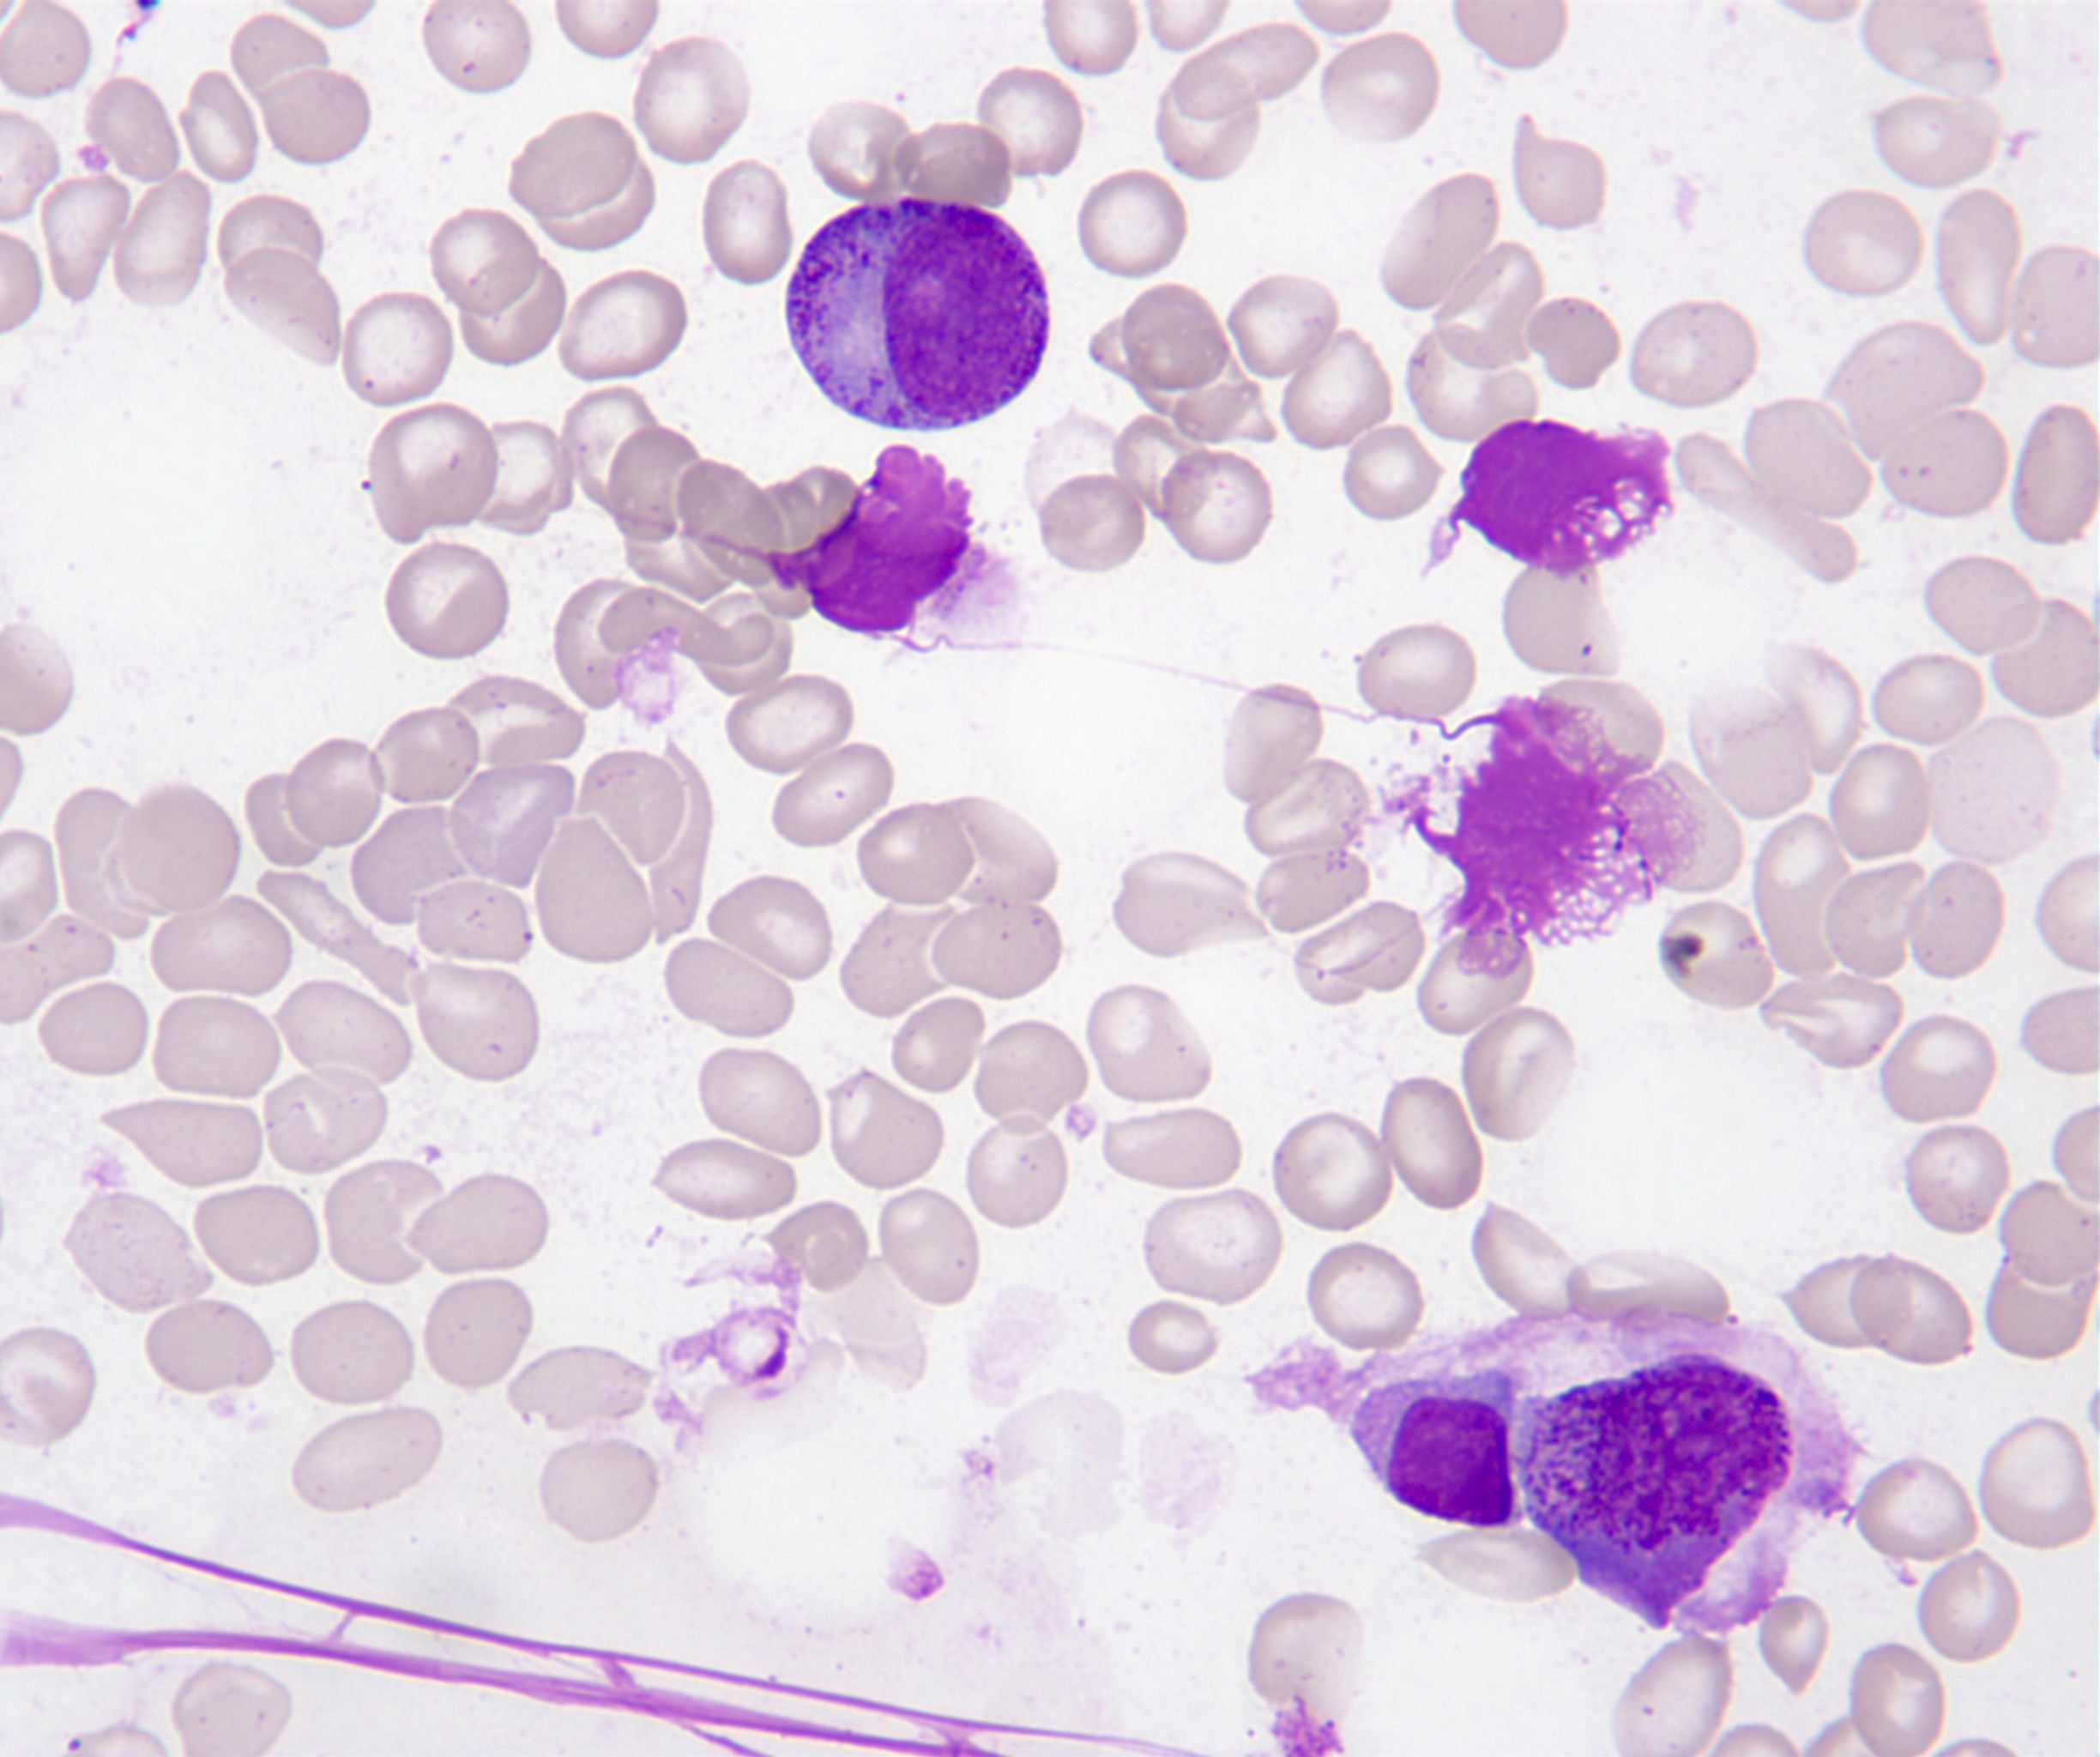3: (787, 201, 1048, 429)
32: (1353, 1370, 1519, 1530)
x: (1244, 1310, 1856, 1635), (1408, 694, 1697, 979), (1423, 420, 1673, 578), (767, 443, 973, 632)
